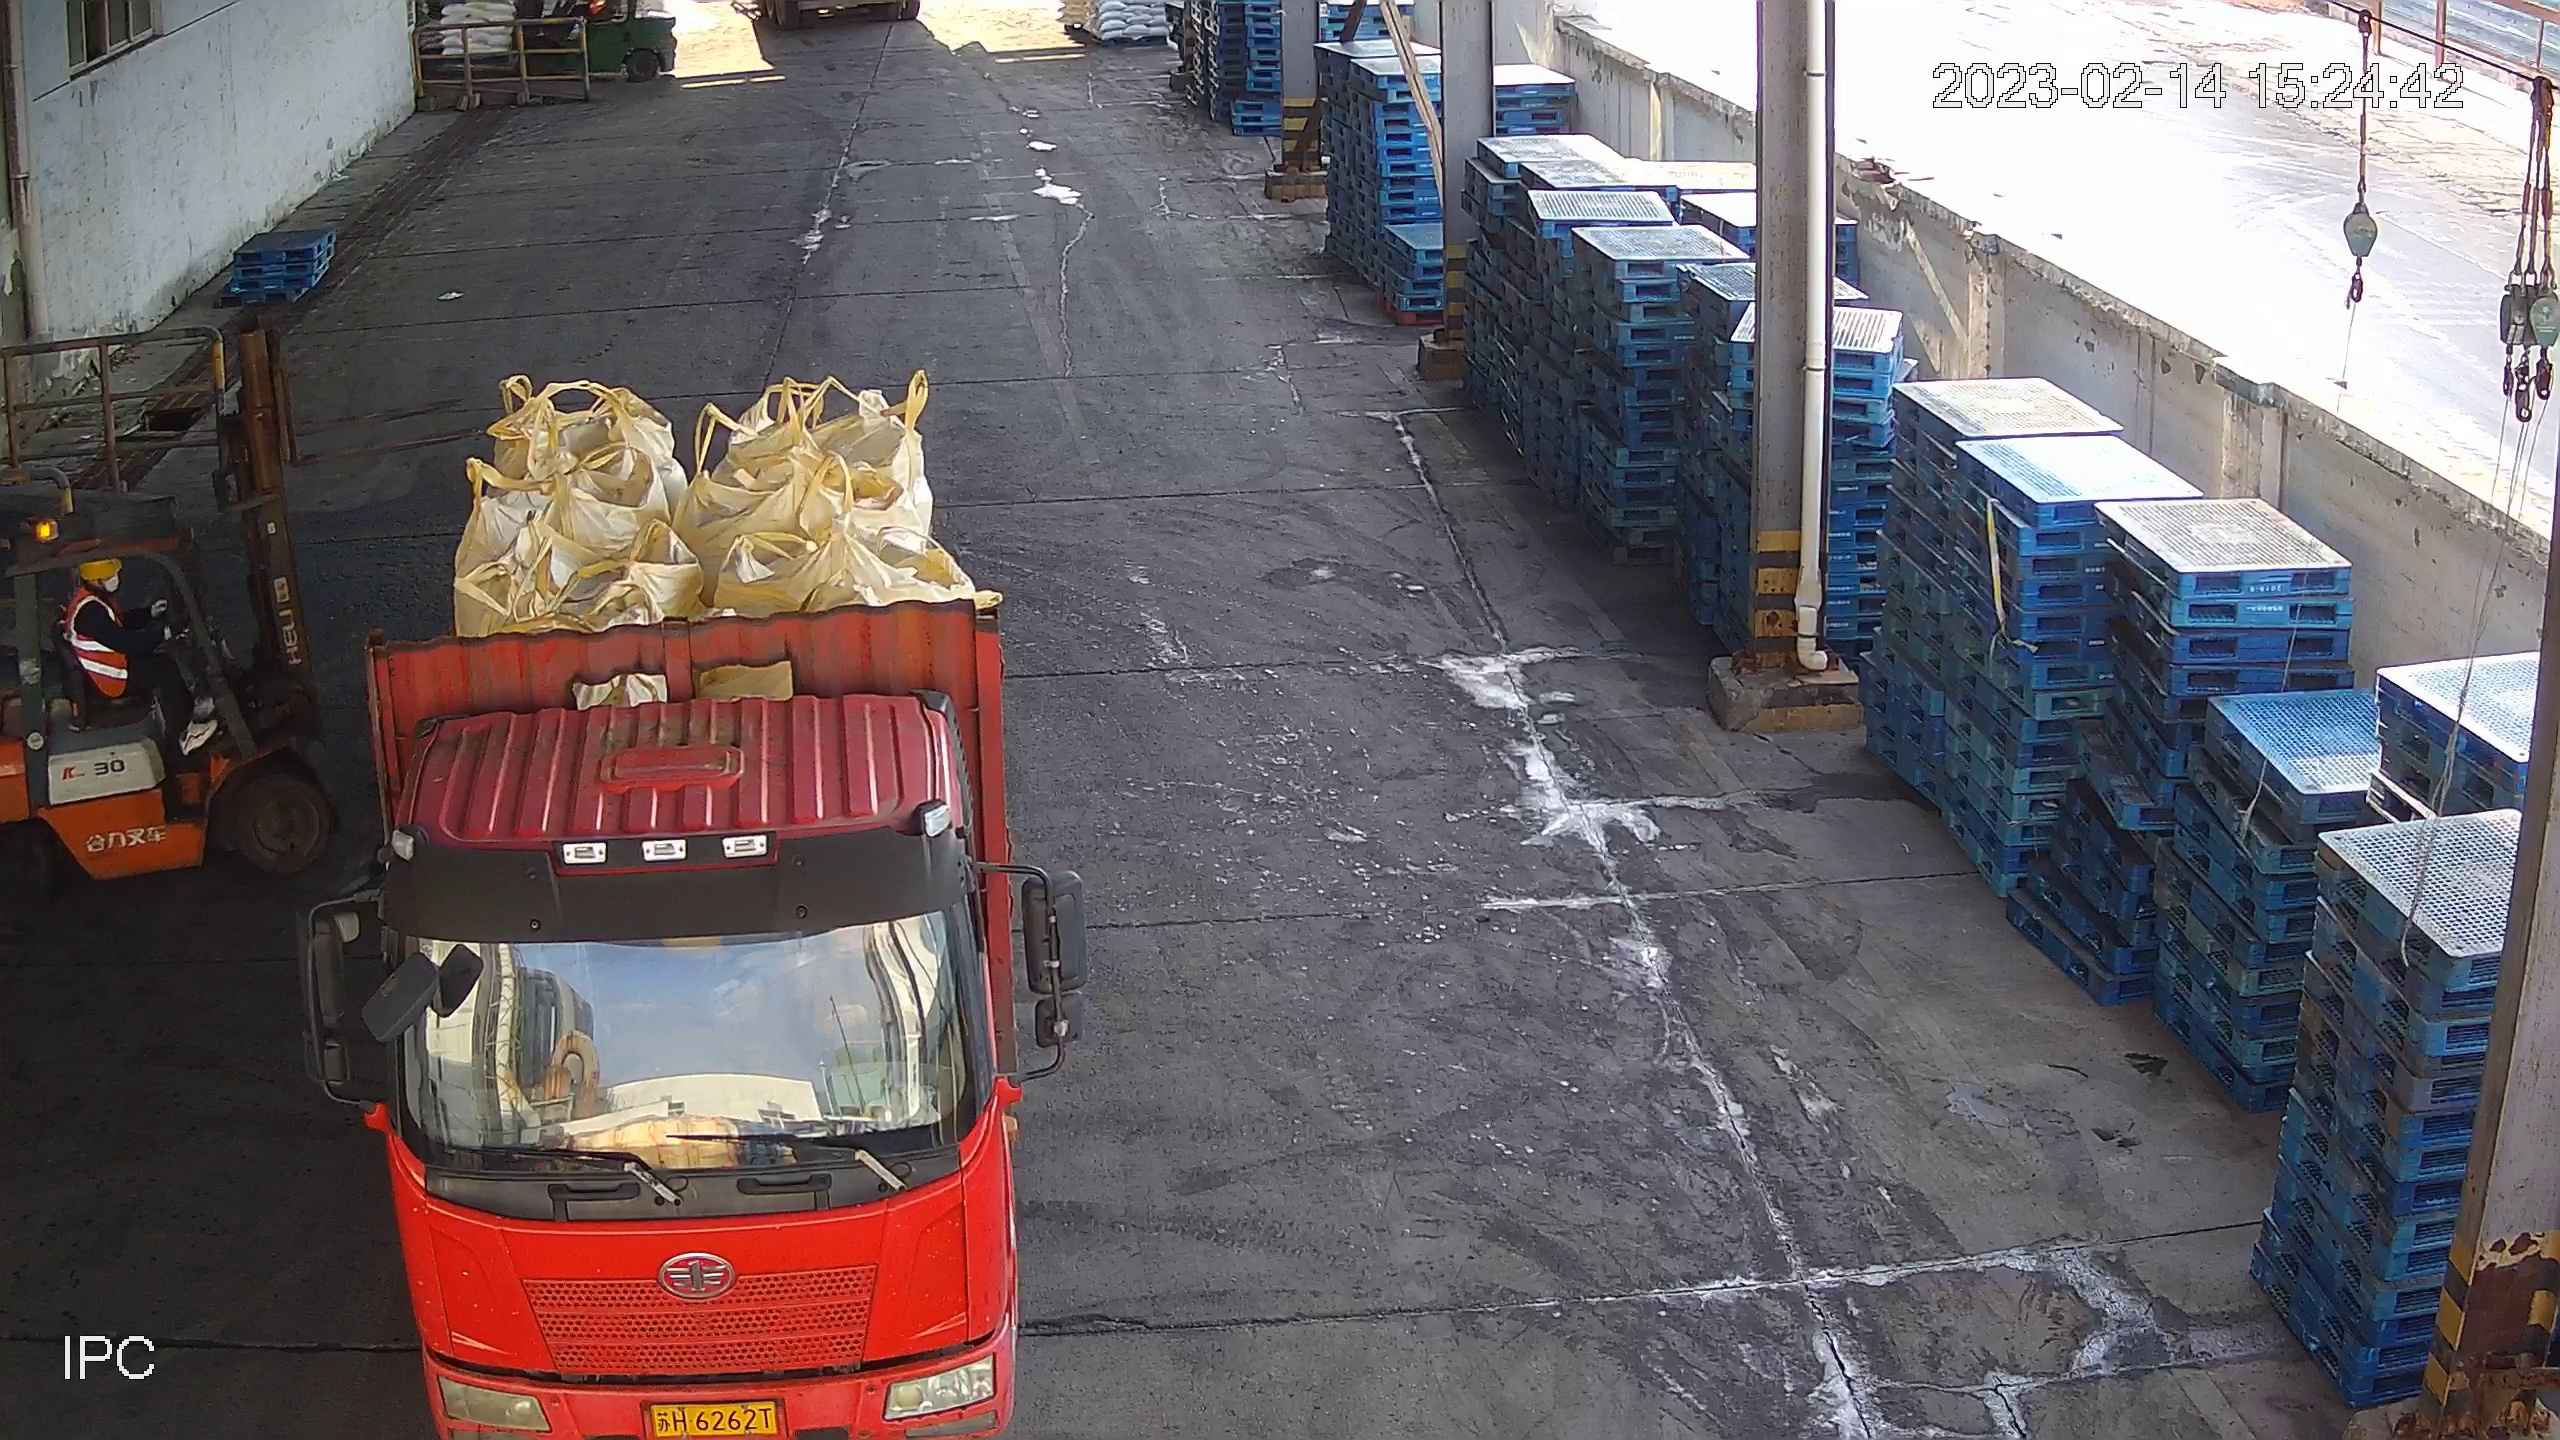head: (67, 556, 123, 634)
helmet: (78, 557, 123, 582)
people: (60, 557, 217, 756)
truck: (297, 603, 1094, 1440)
